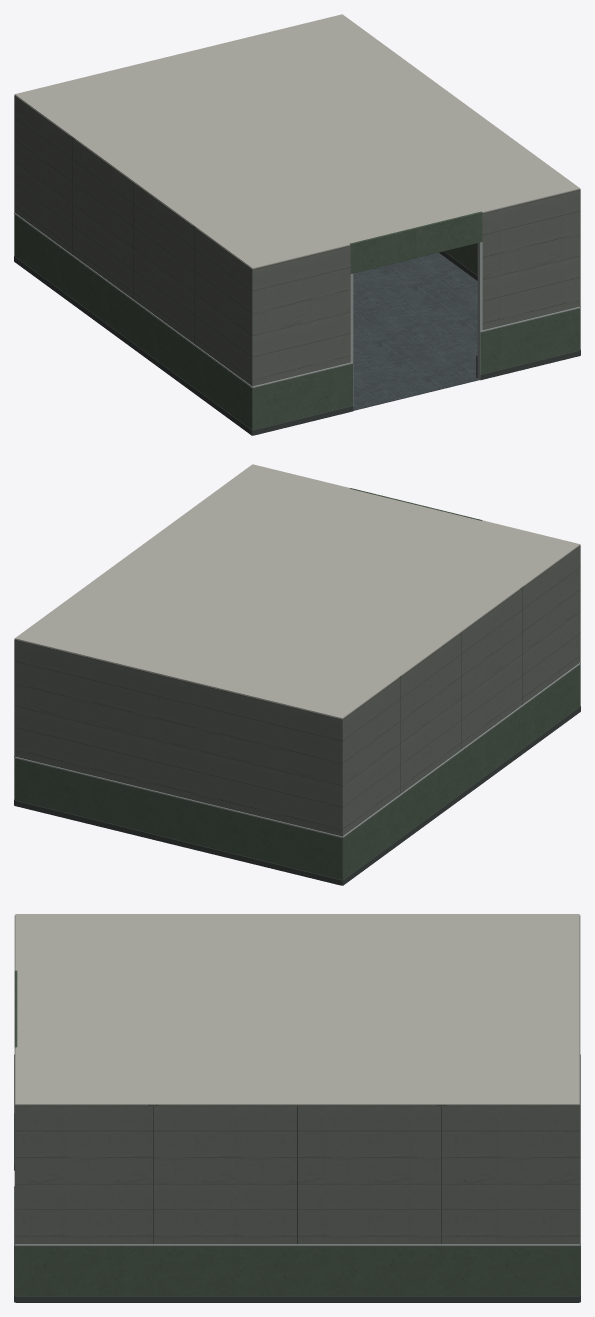
File: equipment_bay_lining.glb
3 views of the same model, one above another, from view 1: azimuth 30°, elevation 25°; view 2: azimuth 150°, elevation 25°; view 3: azimuth 270°, elevation 25° (orthographic). The views are drawn at different scales.
Parts seen in each view (by area): view 1: equipment_bay_lining / bay_ceiling_ivory, equipment_bay_lining / transfer_quiet_concrete, equipment_bay_lining / transfer_green_enamel, equipment_bay_lining / bay_bluegray_floor, equipment_bay_lining / transfer_dark_steel, equipment_bay_lining / transfer_galvanized; view 2: equipment_bay_lining / bay_ceiling_ivory, equipment_bay_lining / transfer_quiet_concrete, equipment_bay_lining / transfer_green_enamel, equipment_bay_lining / transfer_dark_steel, equipment_bay_lining / transfer_galvanized; view 3: equipment_bay_lining / bay_ceiling_ivory, equipment_bay_lining / transfer_quiet_concrete, equipment_bay_lining / transfer_green_enamel, equipment_bay_lining / transfer_dark_steel, equipment_bay_lining / transfer_galvanized.
Part boxes in pixels (bbox=[...]): equipment_bay_lining / bay_ceiling_ivory: bbox=[14, 14, 580, 268]; equipment_bay_lining / transfer_quiet_concrete: bbox=[14, 95, 580, 386]; equipment_bay_lining / transfer_green_enamel: bbox=[14, 136, 580, 434]; equipment_bay_lining / bay_bluegray_floor: bbox=[353, 252, 479, 410]; equipment_bay_lining / transfer_dark_steel: bbox=[14, 138, 580, 435]; equipment_bay_lining / transfer_galvanized: bbox=[14, 212, 580, 405]; equipment_bay_lining / bay_ceiling_ivory: bbox=[14, 464, 580, 718]; equipment_bay_lining / transfer_quiet_concrete: bbox=[14, 545, 580, 837]; equipment_bay_lining / transfer_green_enamel: bbox=[14, 488, 580, 884]; equipment_bay_lining / transfer_dark_steel: bbox=[14, 588, 580, 885]; equipment_bay_lining / transfer_galvanized: bbox=[14, 662, 580, 837]; equipment_bay_lining / bay_ceiling_ivory: bbox=[15, 914, 579, 1104]; equipment_bay_lining / transfer_quiet_concrete: bbox=[14, 915, 580, 1246]; equipment_bay_lining / transfer_green_enamel: bbox=[14, 970, 580, 1299]; equipment_bay_lining / transfer_dark_steel: bbox=[14, 1105, 580, 1302]; equipment_bay_lining / transfer_galvanized: bbox=[14, 1054, 580, 1246].
Bounding box in the file's own units: 7.82 × 3.8 × 9.82.
Materials: 7 (3 with a texture image).
